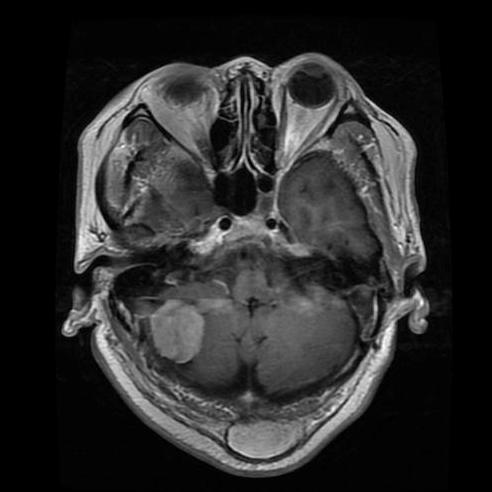Tumour-Meningioma: (134, 292, 237, 394)
